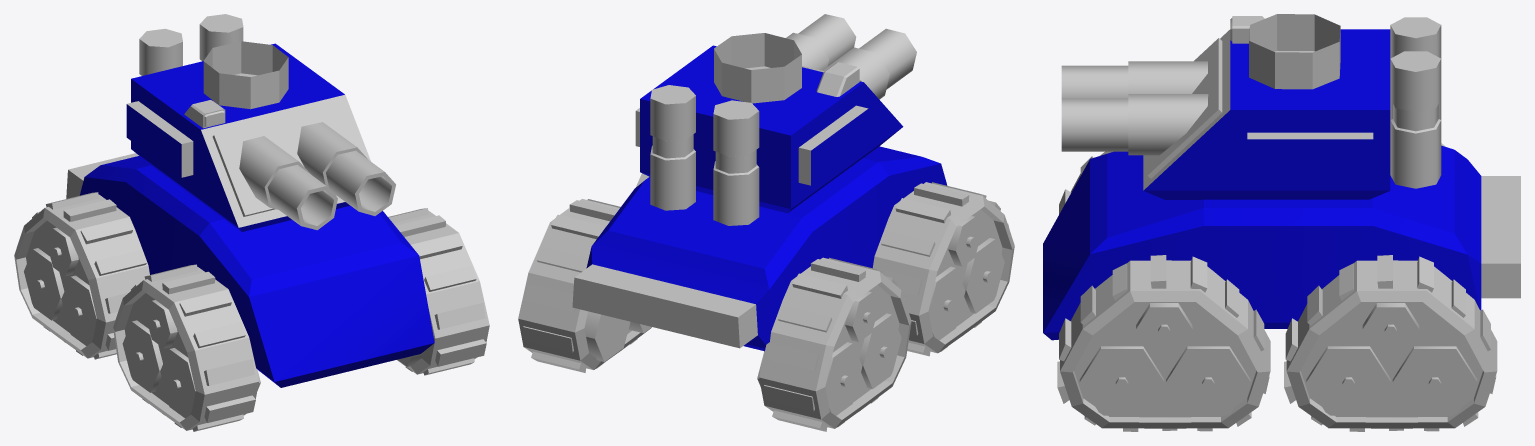
Rendered from Tank(2Level) 1.fbx.
3 views of the same model, side by side, from view 1: azimuth 30°, elevation 25°; view 2: azimuth 150°, elevation 25°; view 3: azimuth 270°, elevation 25° (orthographic). The views are drawn at different scales.
Visible parts, largest first — view 1: Tank, Double_Turret; view 2: Tank, Double_Turret; view 3: Tank, Double_Turret.
Boxes of the visible parts, x1,y1,x2,y2 form: Tank: [14, 153, 489, 431]; Double_Turret: [126, 14, 395, 231]; Tank: [518, 146, 1014, 431]; Double_Turret: [635, 14, 916, 225]; Tank: [1043, 143, 1520, 431]; Double_Turret: [1061, 14, 1441, 199].
Bounding box in the file's own units: 322 × 293 × 394.
